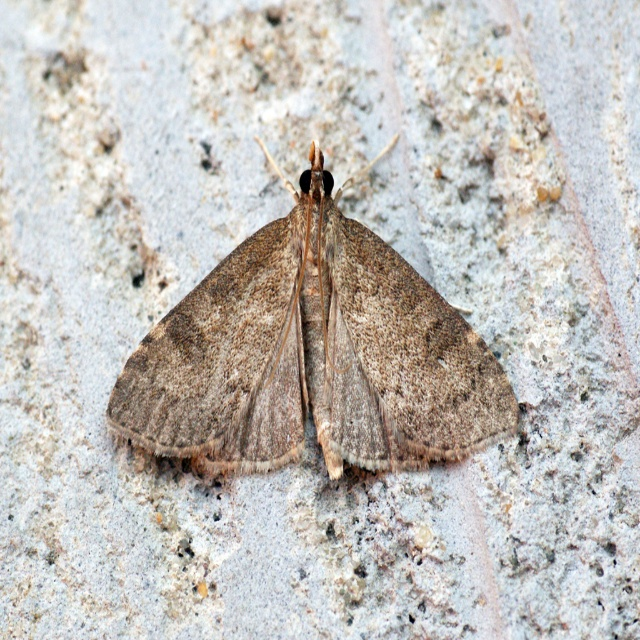Butterfly: (102, 120, 529, 513)
